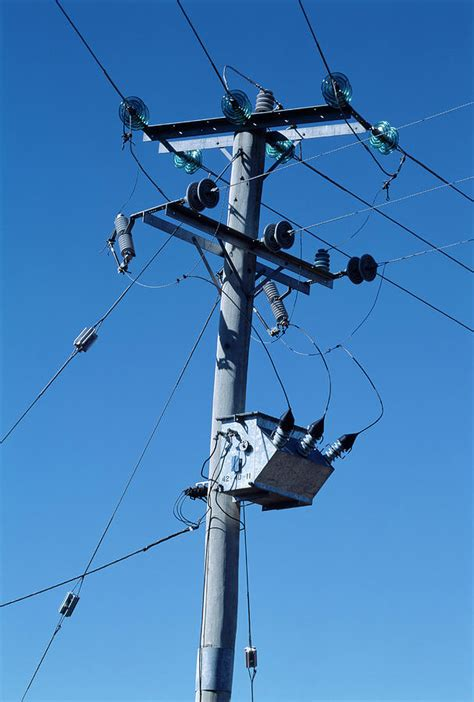pole: (49, 28, 456, 702)
